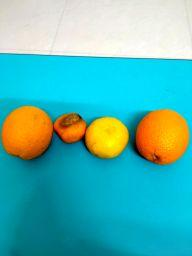orange: (135, 109, 190, 165), (1, 105, 54, 161), (84, 116, 129, 160), (54, 112, 88, 144)
